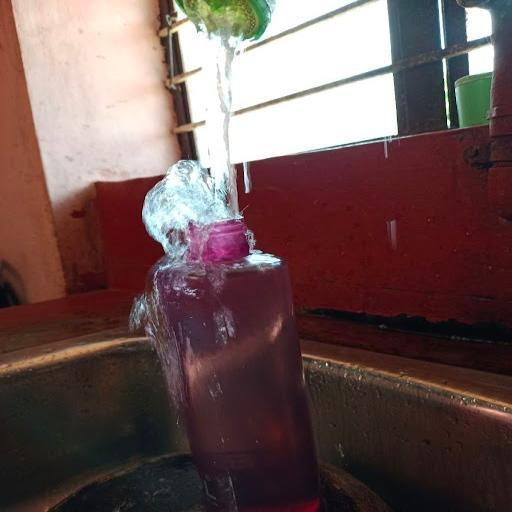bottle: (136, 209, 347, 512)
